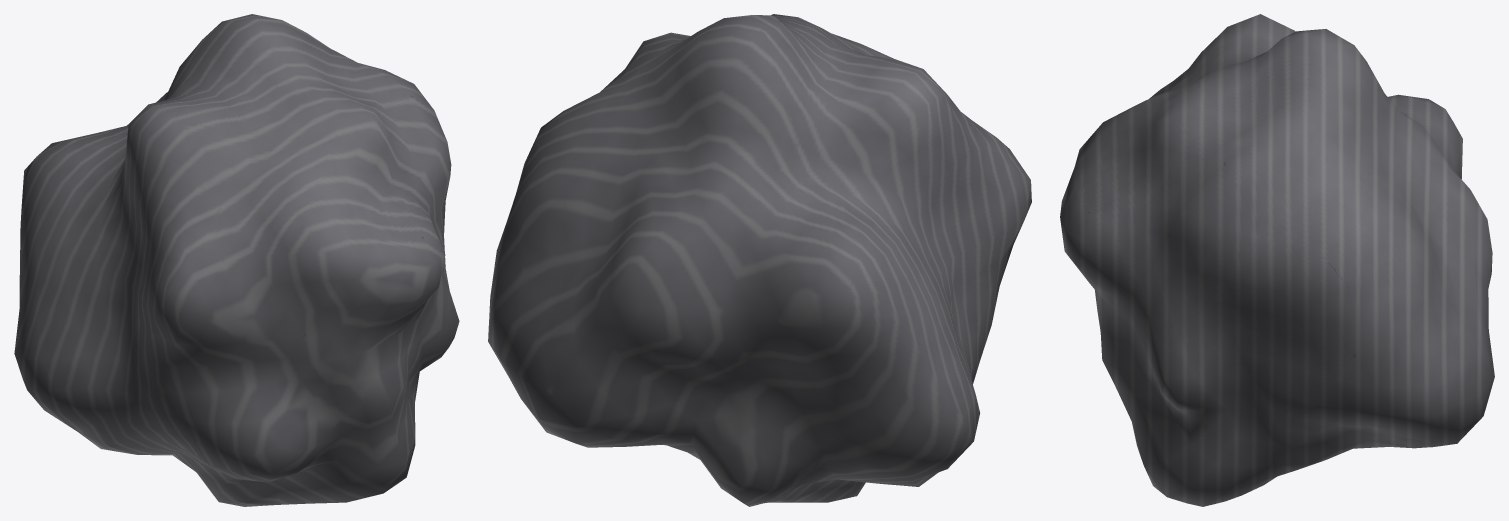
Rendered from rock_dark_basalt.glb.
3 renders of one model, left to right at view 1: azimuth 30°, elevation 25°; view 2: azimuth 150°, elevation 25°; view 3: azimuth 270°, elevation 25°, orthographic. The views are drawn at different scales.
Parts seen in each view (by area): view 1: rock_dark_basalt; view 2: rock_dark_basalt; view 3: rock_dark_basalt.
Boxes of the visible parts, left/top/right/bottom form: rock_dark_basalt: left=14, top=14, right=459, bottom=506; rock_dark_basalt: left=488, top=14, right=1031, bottom=506; rock_dark_basalt: left=1060, top=14, right=1494, bottom=506.
Bounding box in the file's own units: 1.3 × 1.39 × 1.2.
1 material, 1 textured.
